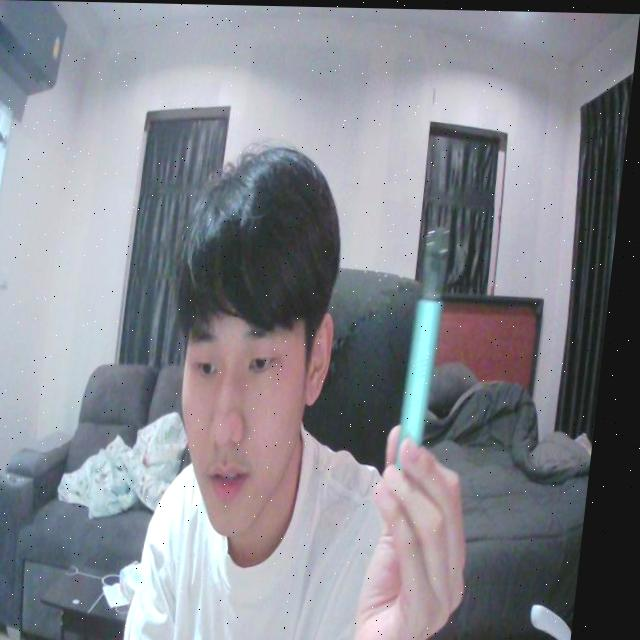vape: (407, 218, 461, 460)
